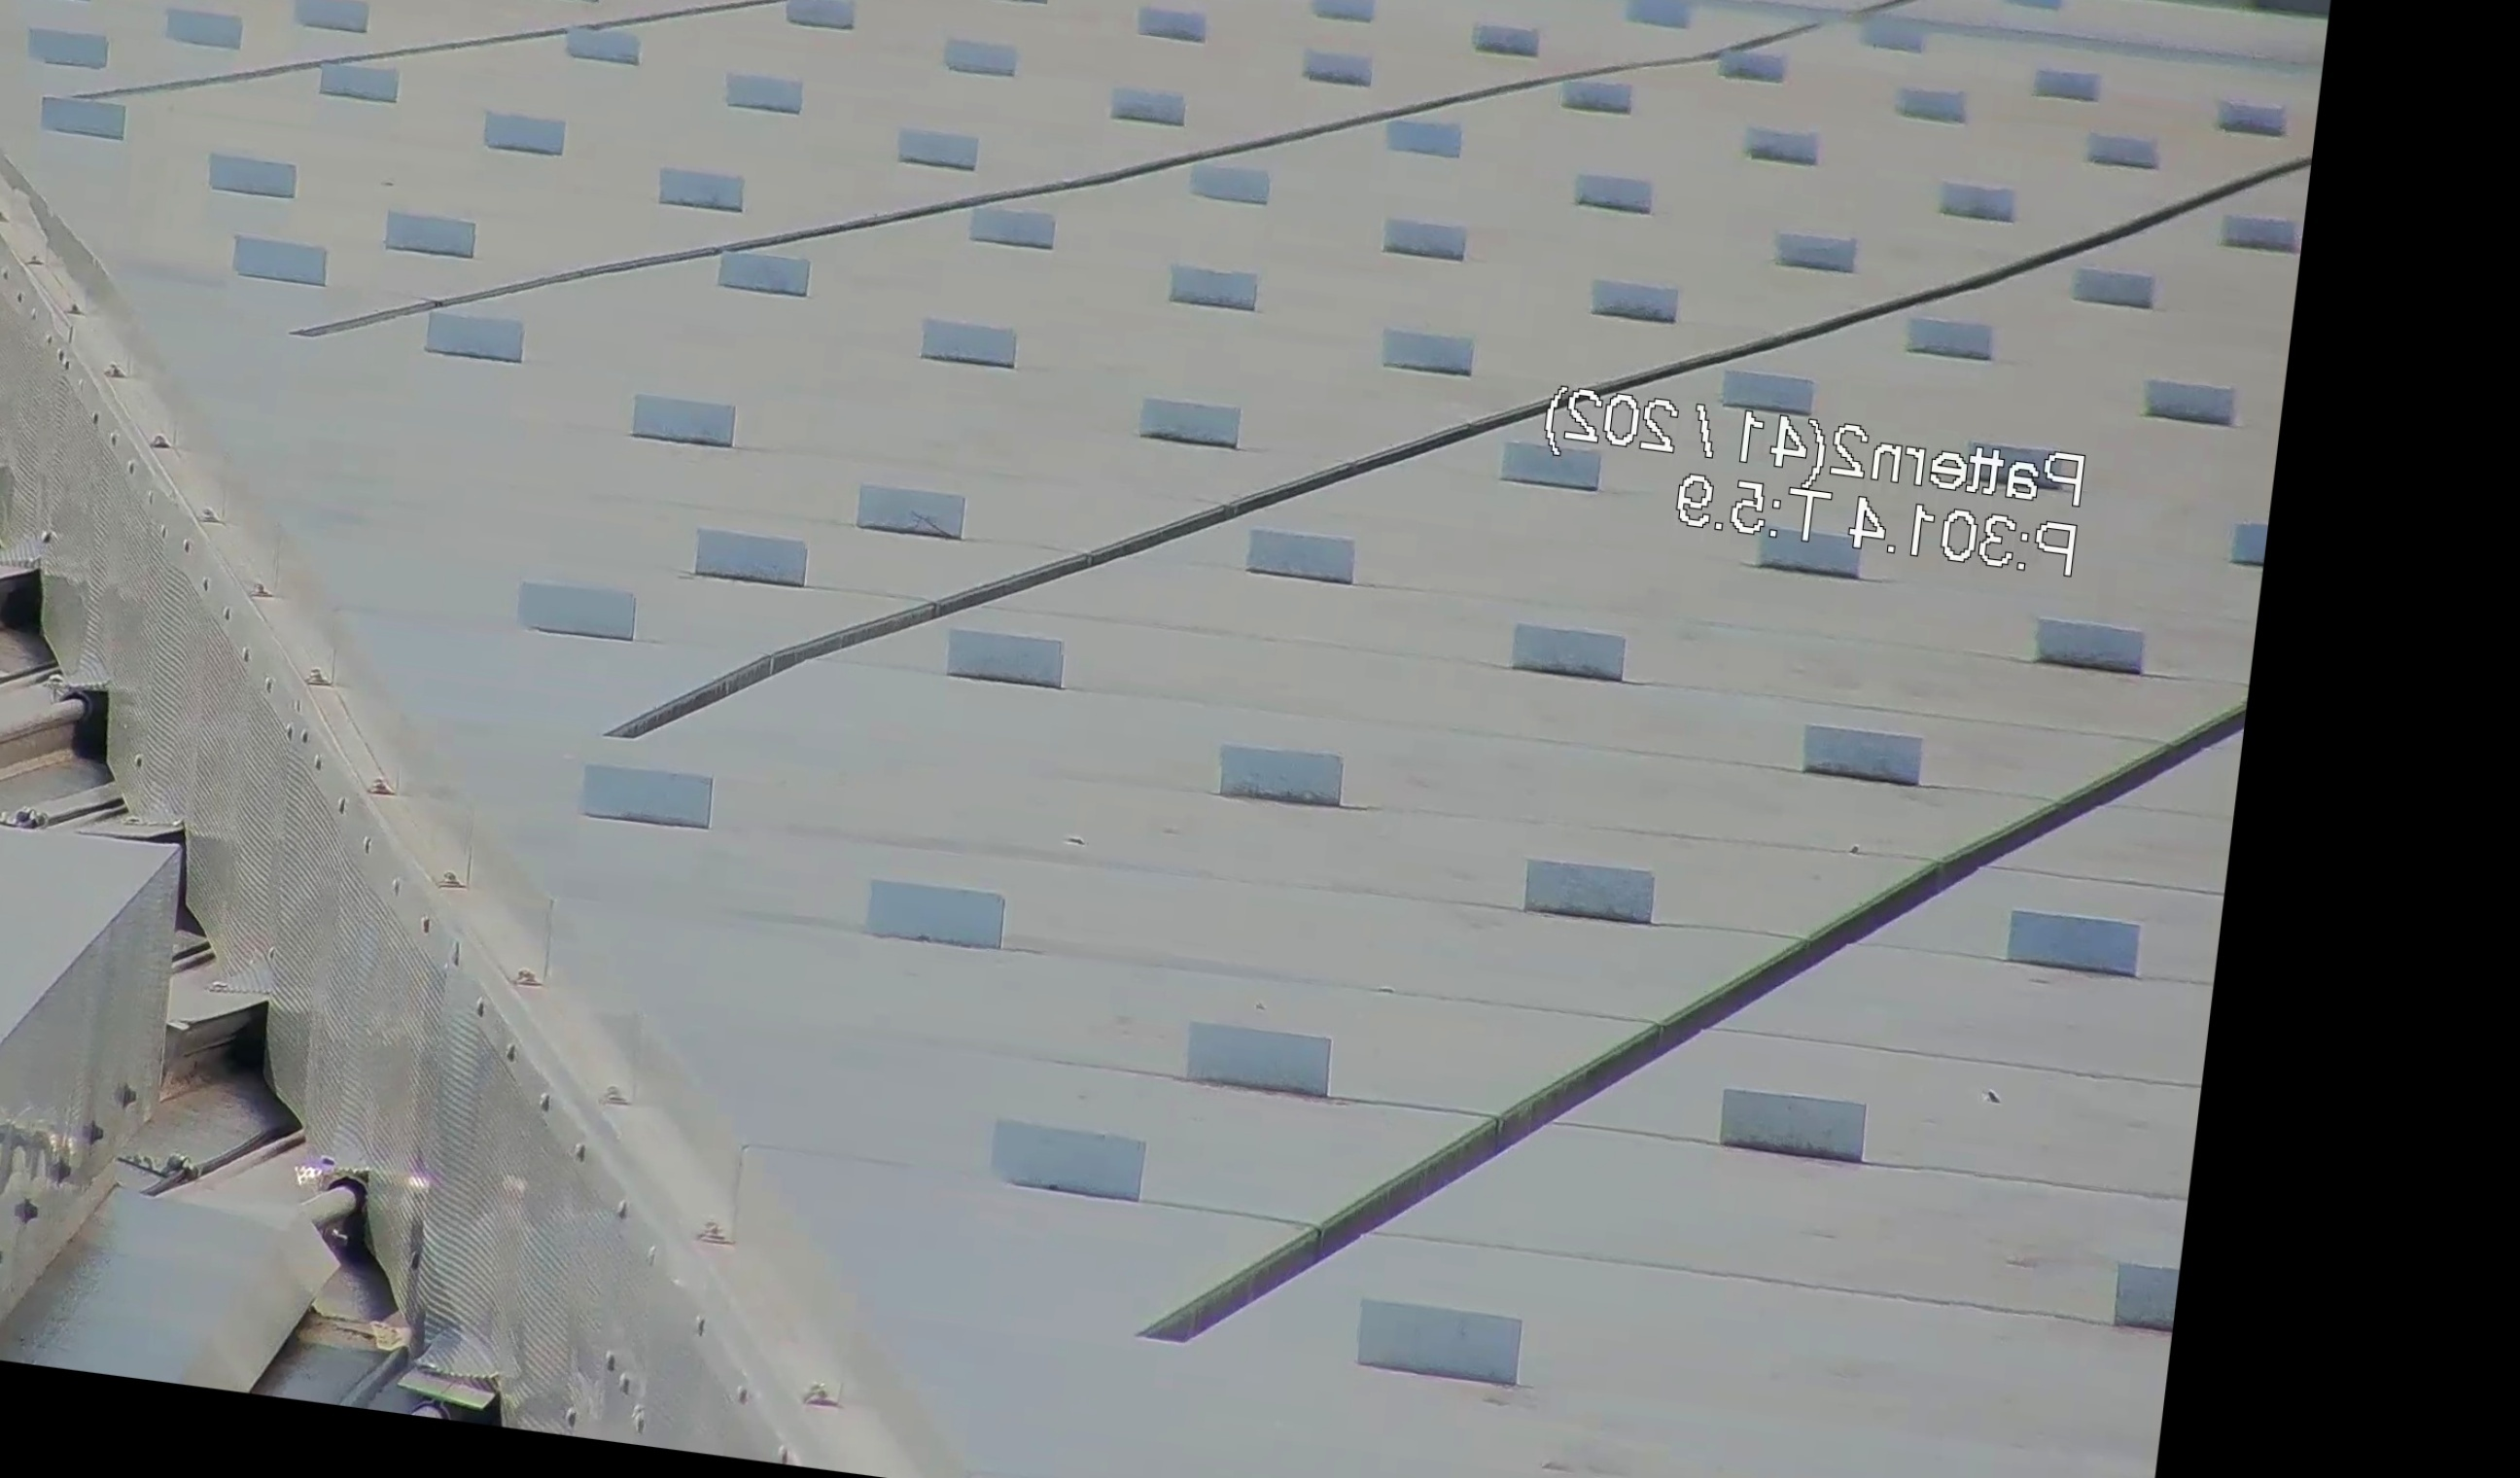Other: (269, 1142, 447, 1360)
